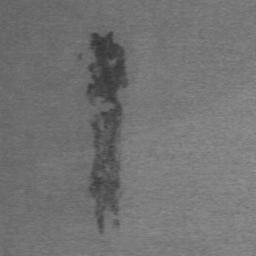Iron scale compression: (86, 32, 129, 235)
